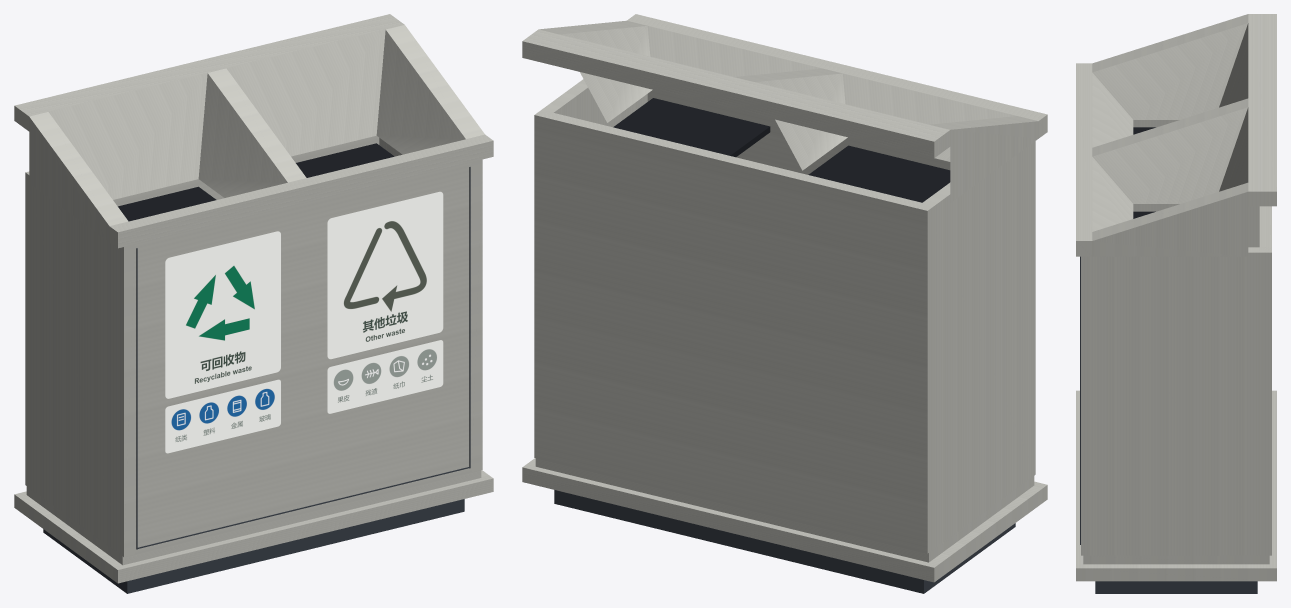
The model's file is bin.glb.
3 renders of one model, left to right at view 1: azimuth 30°, elevation 25°; view 2: azimuth 150°, elevation 25°; view 3: azimuth 270°, elevation 25°, orthographic. The views are drawn at different scales.
Parts seen in each view (by area): view 1: Bin; view 2: Bin; view 3: Bin.
Part boxes in pixels (x1,y1,x2,y2): Bin: (14, 14, 493, 593); Bin: (522, 14, 1047, 593); Bin: (1076, 14, 1276, 593).
Size of the model in its own units: 0.88 by 0.95 by 0.42.
Materials: 4 (2 with a texture image).
